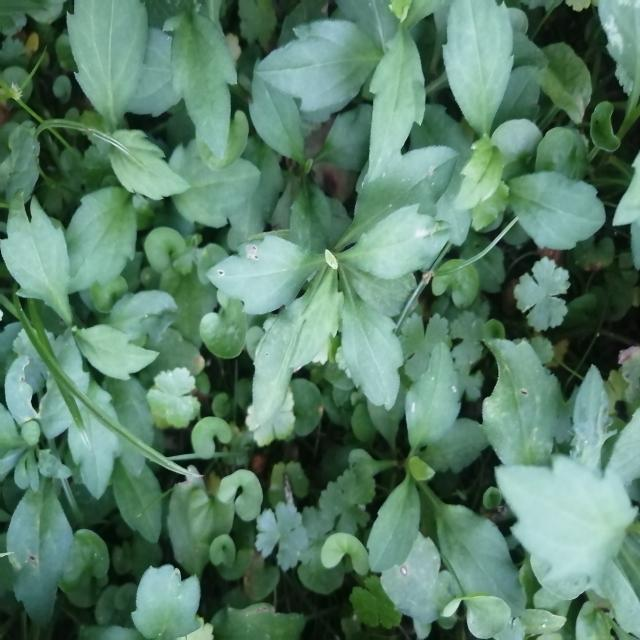Indian aster: (211, 147, 438, 425), (54, 10, 243, 281), (396, 3, 591, 259)
